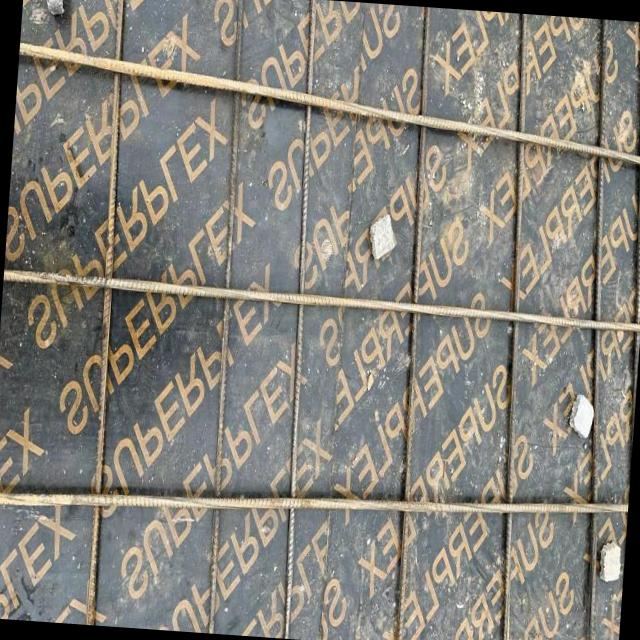ribbed bar: (13, 40, 640, 171), (0, 457, 628, 551), (555, 20, 637, 640), (473, 14, 552, 640), (263, 0, 334, 638), (377, 7, 448, 640), (2, 265, 640, 333), (192, 0, 259, 633), (72, 0, 139, 625), (607, 25, 640, 485)
